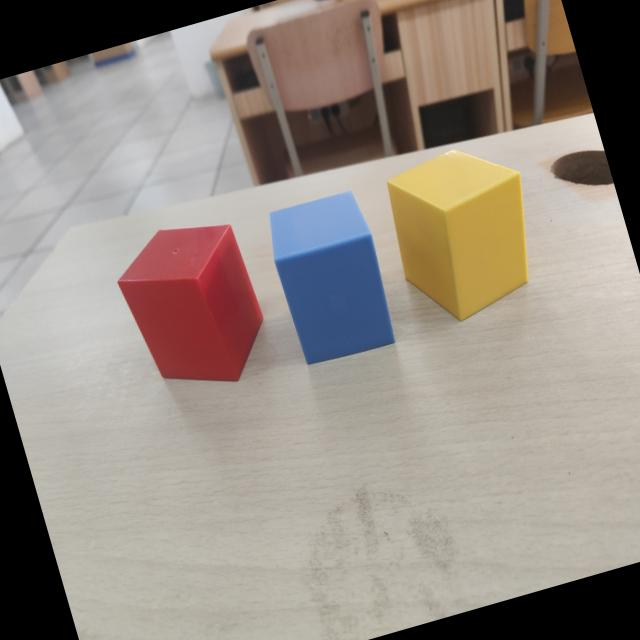blue: (269, 193, 395, 366)
red: (117, 224, 264, 385)
yellow: (386, 152, 529, 322)
